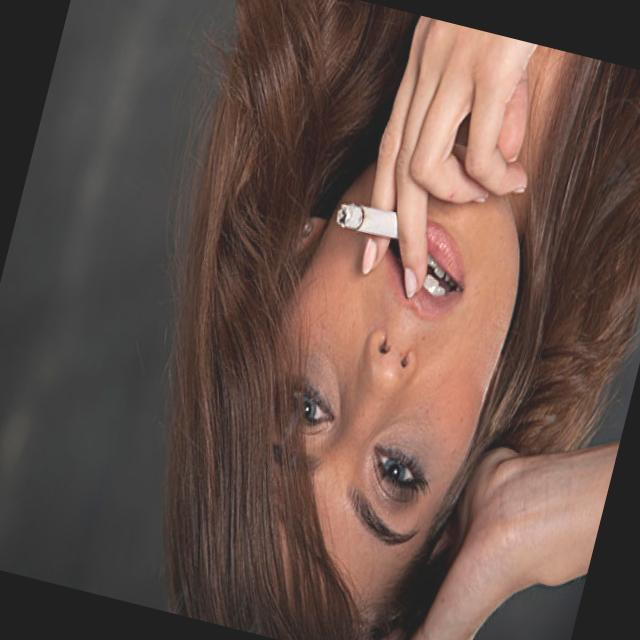cigarette: (326, 180, 417, 253)
